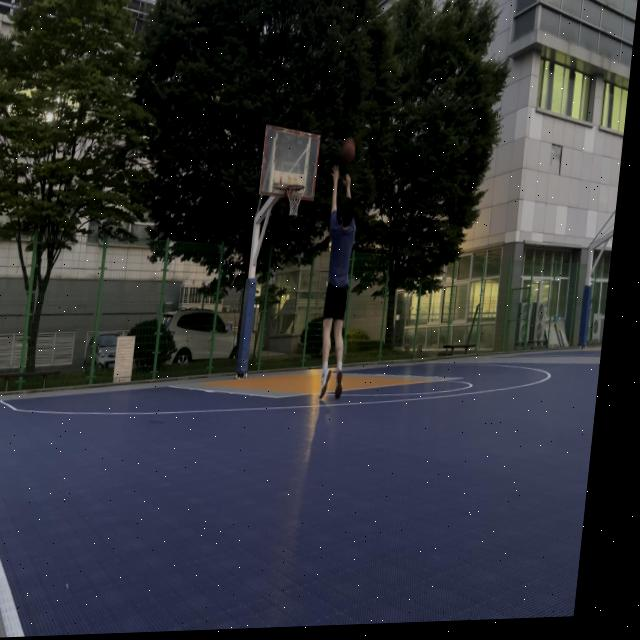basketball: (340, 136, 358, 163)
hoop: (283, 183, 306, 217)
